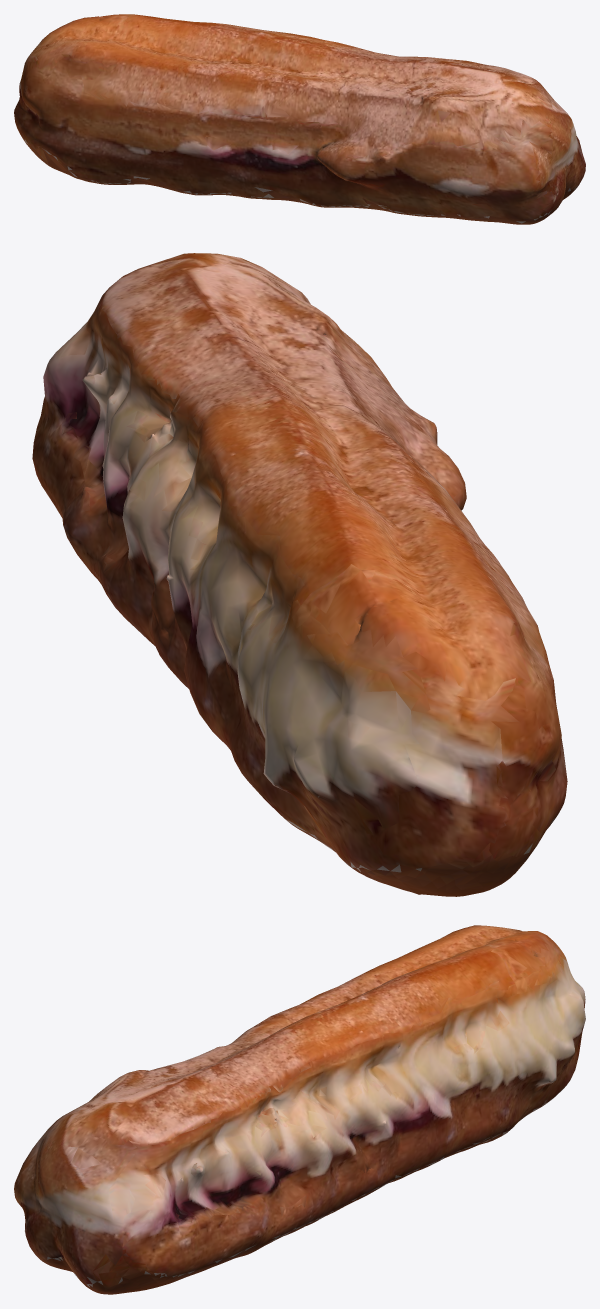
The model's file is eclaire_7848.obj.
3 views of the same model, one above another, from view 1: azimuth 30°, elevation 25°; view 2: azimuth 150°, elevation 25°; view 3: azimuth 270°, elevation 25° (orthographic). The views are drawn at different scales.
Bounding box in the file's own units: 93.82 × 31.6 × 91.3.
Materials: 1 (1 with a texture image).
